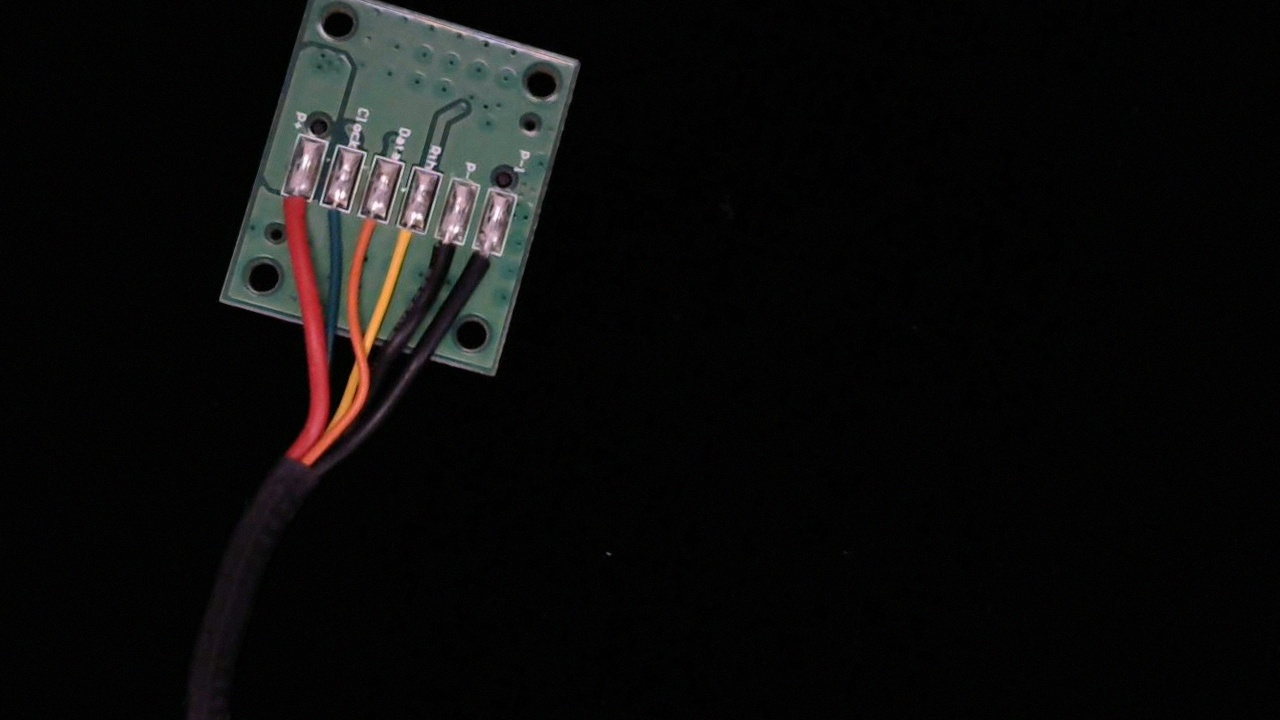Black: (421, 220, 466, 292)
Black1: (459, 231, 506, 295)
Green: (307, 186, 353, 253)
Orange: (345, 198, 390, 264)
Red: (266, 175, 314, 243)
Yellow: (380, 207, 430, 282)
